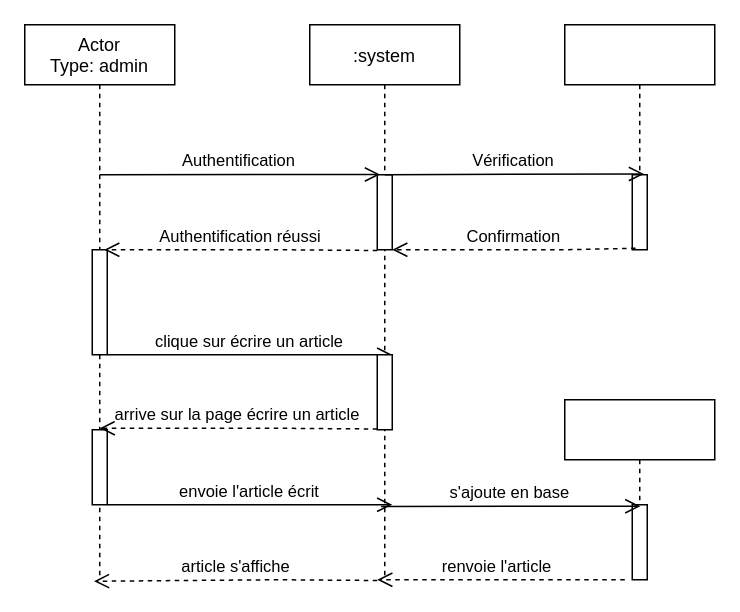
Some shapes in this 740 by 612 pixel diagram are drawn without their labels. Here are the shapes that lost their labels. From the top down, the box of each, then its label:
(563, 23, 715, 250): :users
(563, 398, 715, 580): :articles
